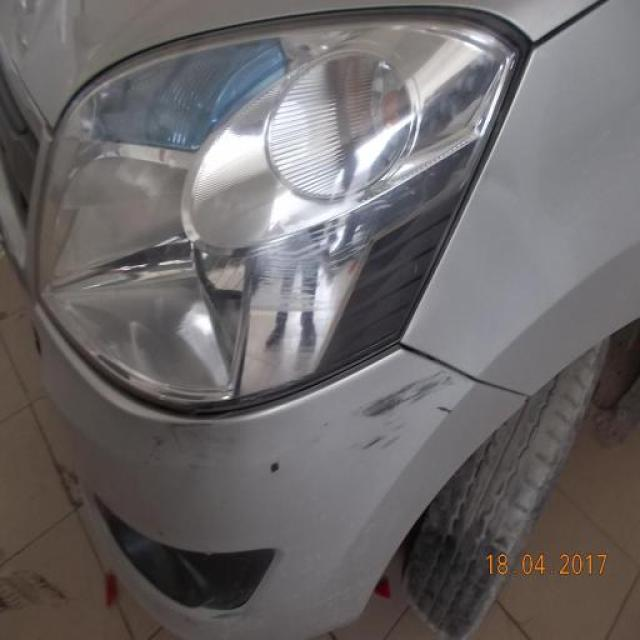scratch: (357, 362, 456, 452), (146, 422, 214, 473), (265, 460, 288, 480)
